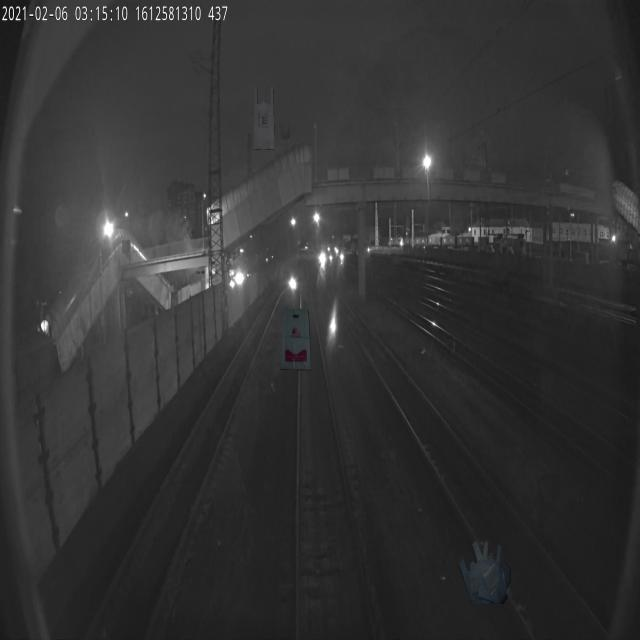balloon: (457, 540, 511, 604)
plastic bag: (280, 308, 311, 372), (253, 86, 274, 150)
